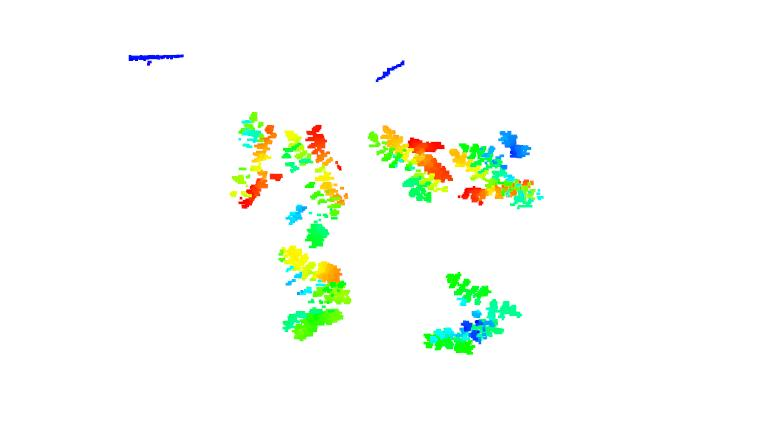chickpea: (281, 119, 353, 246), (424, 273, 523, 355), (364, 120, 455, 206), (273, 245, 354, 341), (452, 139, 546, 213), (225, 106, 283, 213)
